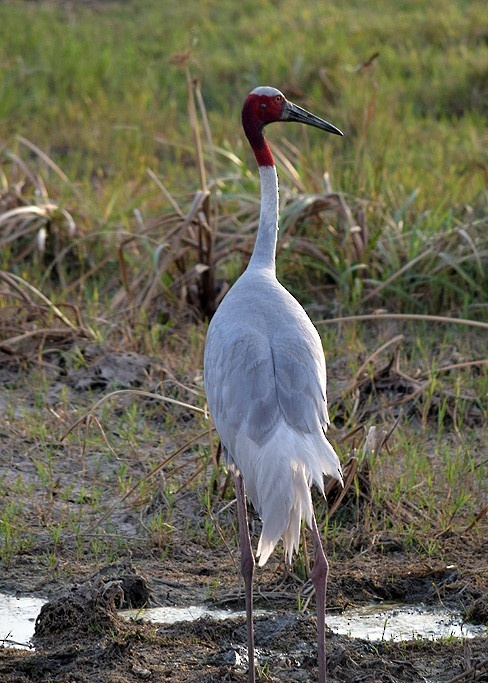crane: (202, 84, 358, 677)
